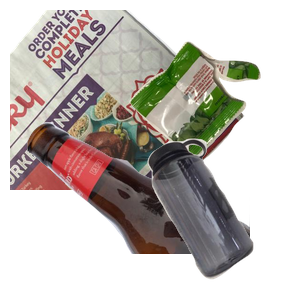glass: (25, 120, 265, 300)
paper: (10, 10, 247, 190)
plastic: (145, 136, 300, 300)
trash: (127, 39, 300, 193)
